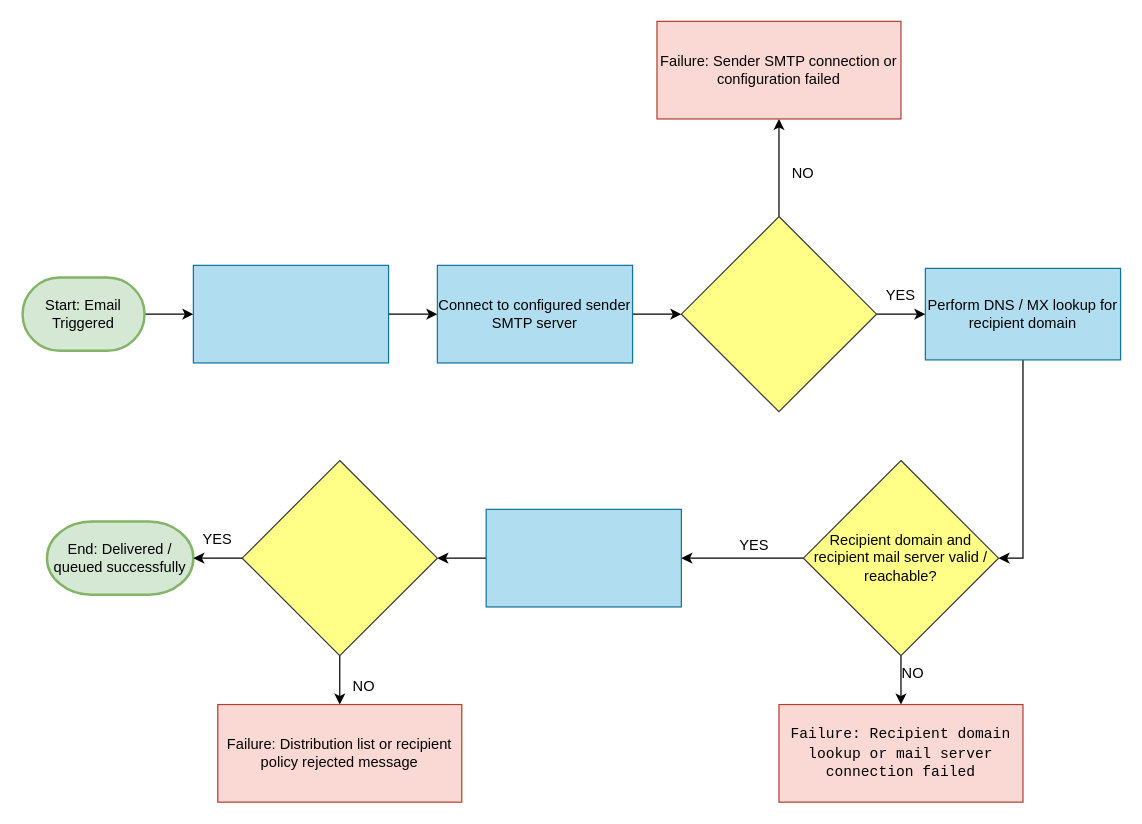
Some shapes in this 1142 by 824 pixel diagram are drawn without their labels. Each missing label, with the box of its shape:
Cocoon Instrument generates alarm notification email: (192, 264, 389, 363)
DL and all recipients valid and allowed?: (241, 459, 437, 656)
Recipient mail server evaluates Alarm Receiver DL: (485, 508, 681, 607)
Sender SMTP server reachable and configuration valid?: (680, 215, 877, 412)
